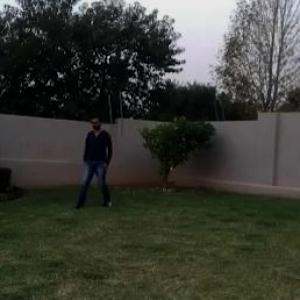follow: (80, 112, 112, 212)
